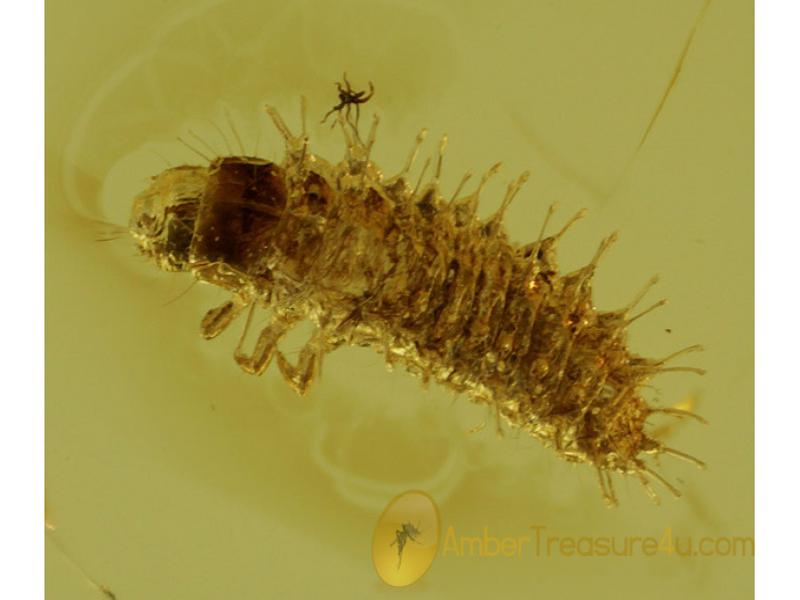Spiny_beetle: (131, 118, 702, 492)
